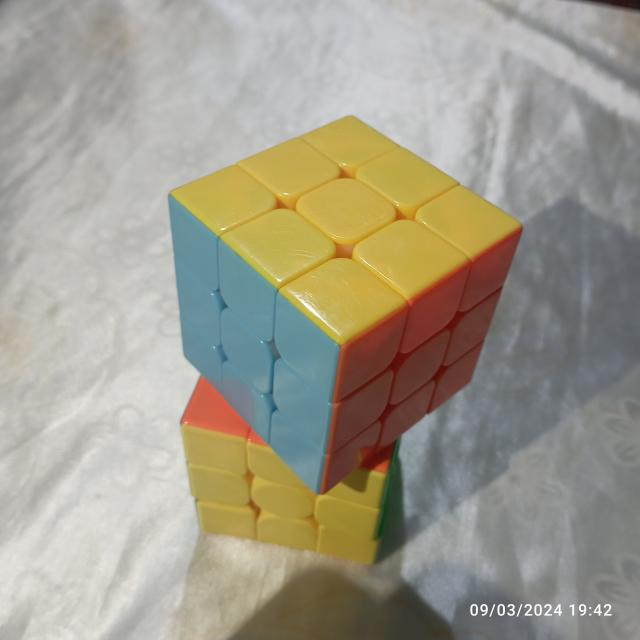Rub: (162, 107, 526, 498), (174, 351, 405, 569)
